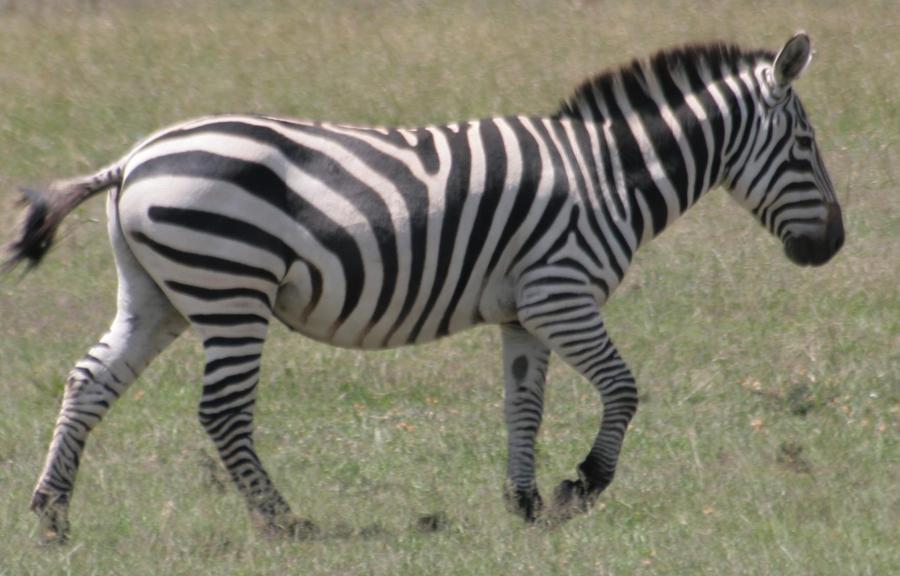zebra_plains: (132, 69, 630, 365)
